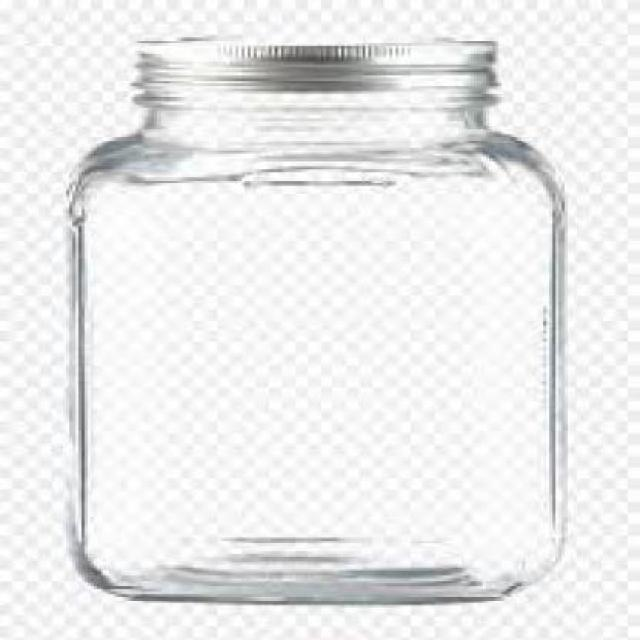kaca: (66, 103, 562, 603)
